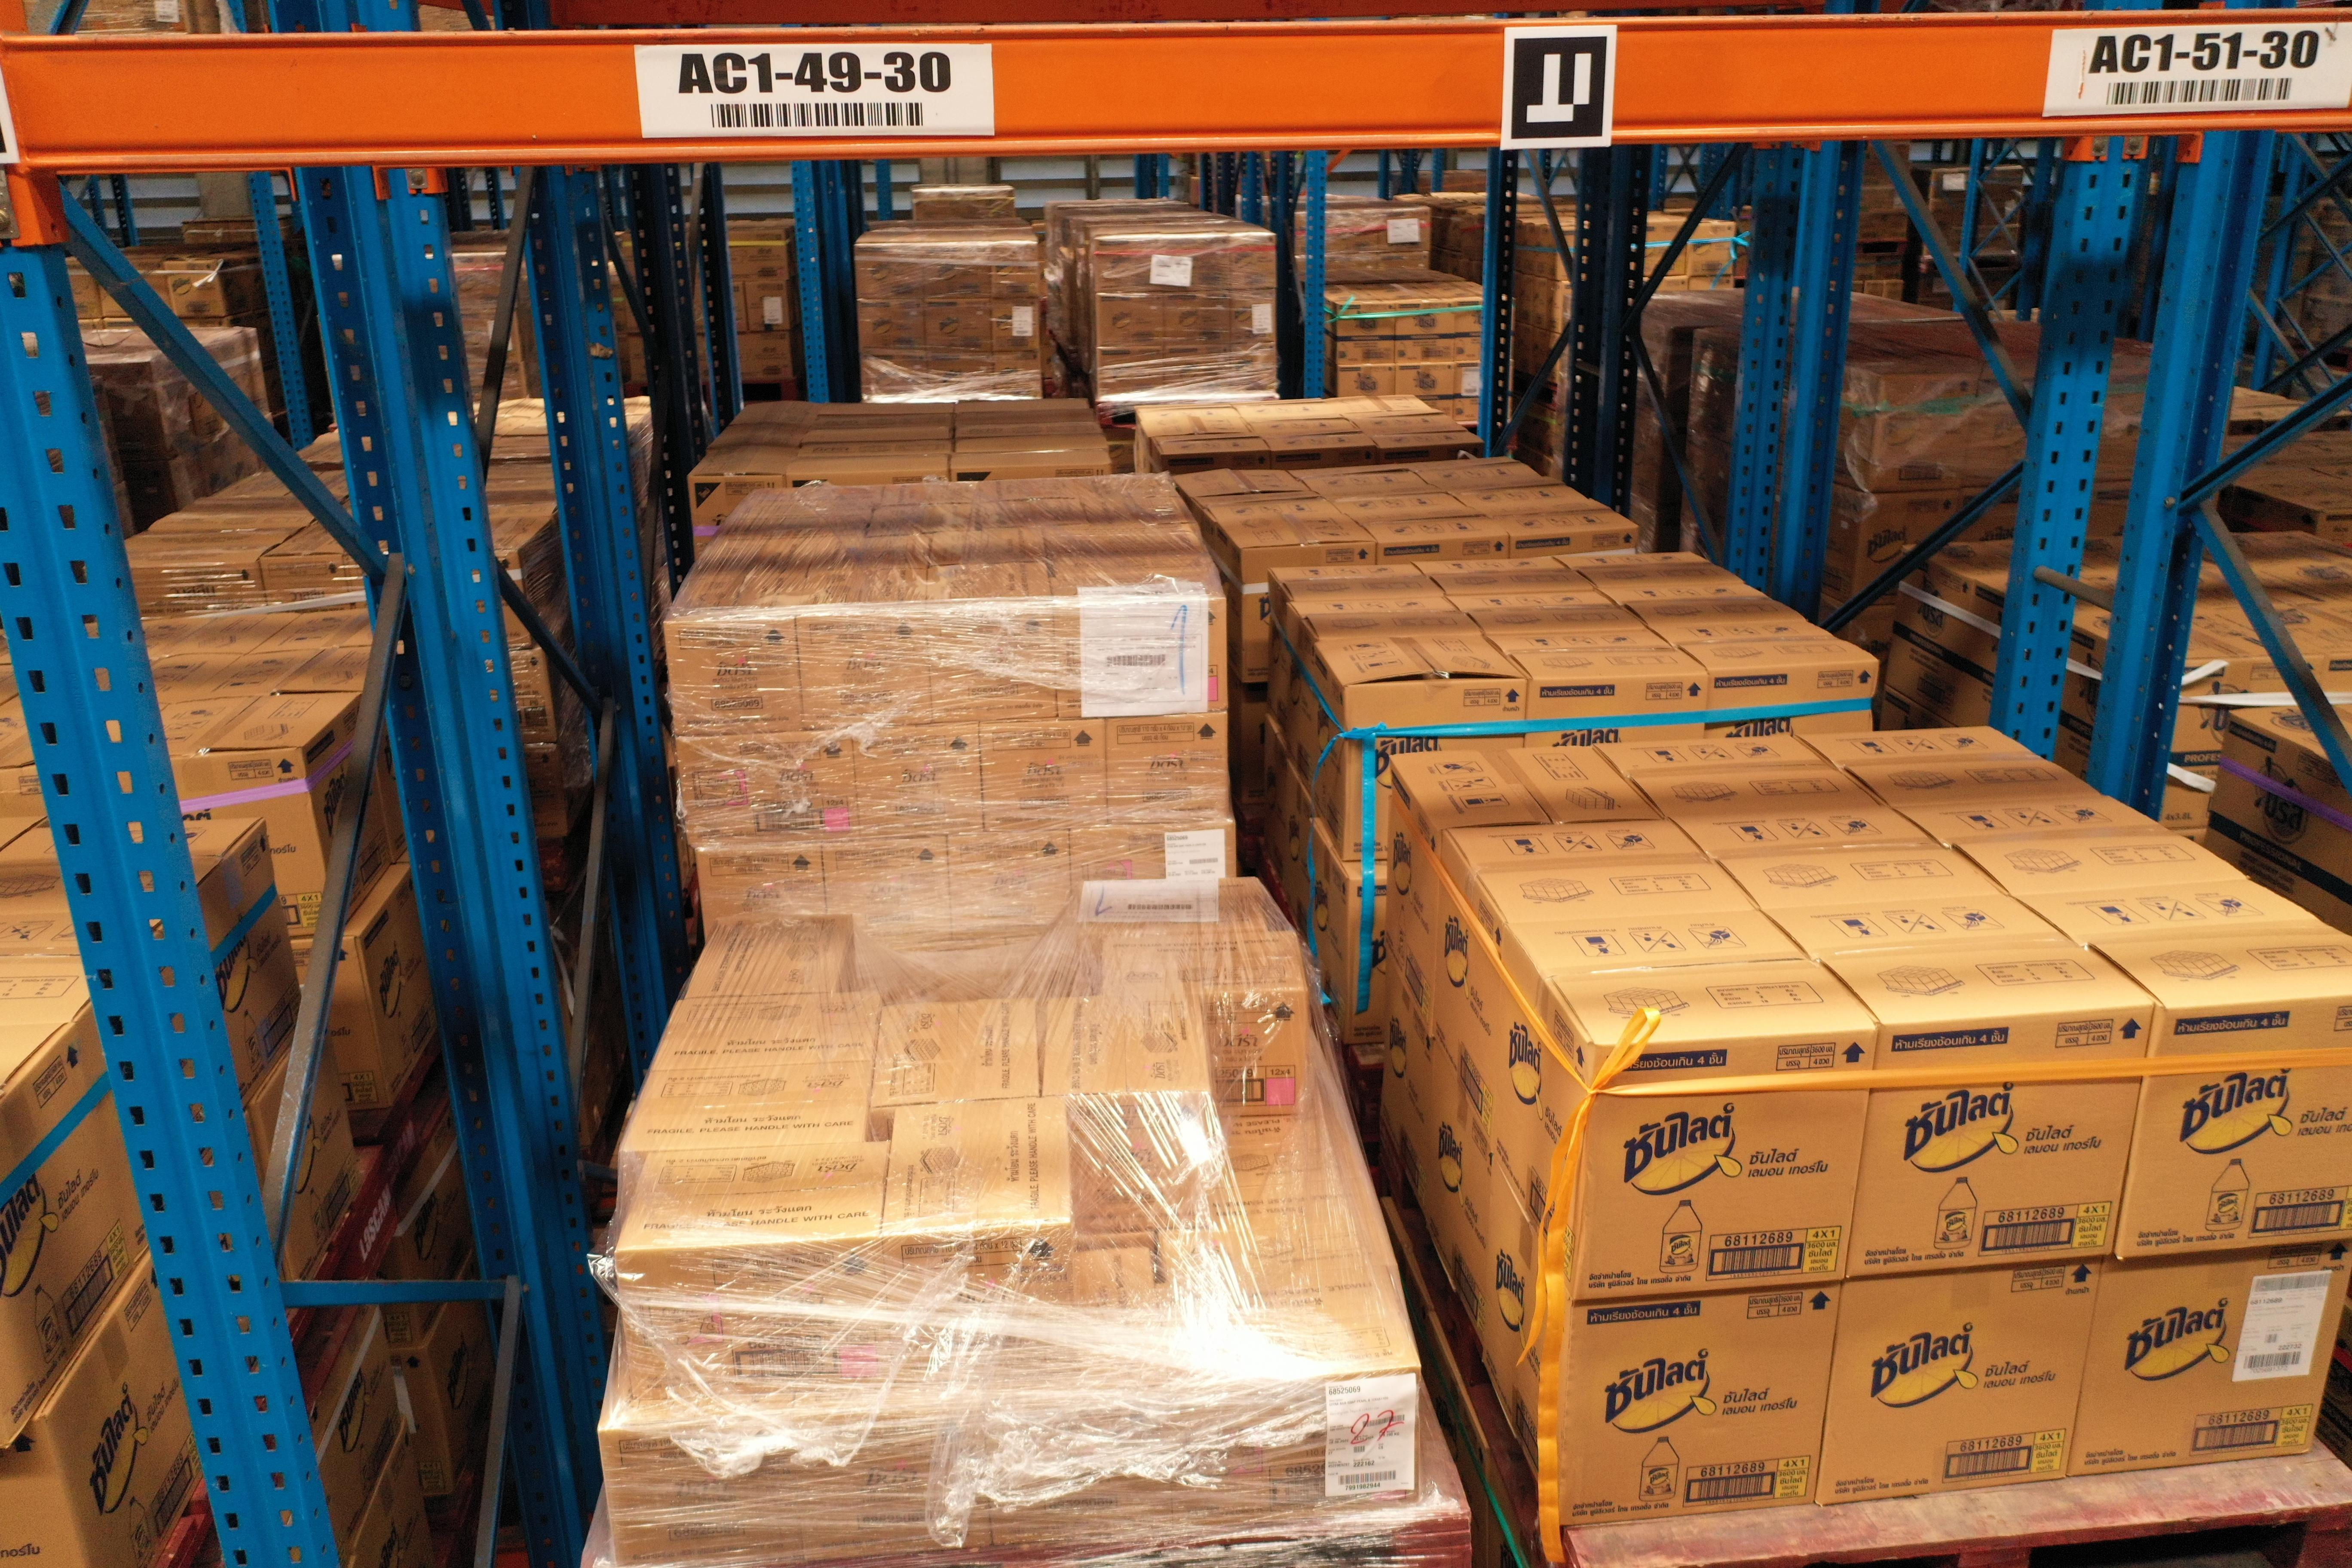-: (1846, 1004, 2156, 1281), (1575, 1027, 1883, 1302), (1557, 1281, 1841, 1533), (1816, 1260, 2103, 1508), (2070, 1241, 2352, 1479), (2114, 996, 2352, 1256), (614, 1235, 892, 1416), (1162, 1365, 1423, 1535), (882, 1221, 1081, 1402), (794, 1416, 996, 1563), (602, 1424, 807, 1568), (983, 1402, 1171, 1547), (1066, 1094, 1218, 1234), (1204, 990, 1309, 1123)
box: (679, 731, 861, 847), (1055, 602, 1227, 716), (794, 612, 934, 731), (667, 616, 803, 735), (926, 611, 1055, 724), (856, 726, 982, 840), (982, 719, 1109, 831), (1106, 710, 1228, 826), (948, 829, 1074, 936), (698, 845, 828, 943), (822, 845, 952, 941), (1073, 826, 1235, 889)
